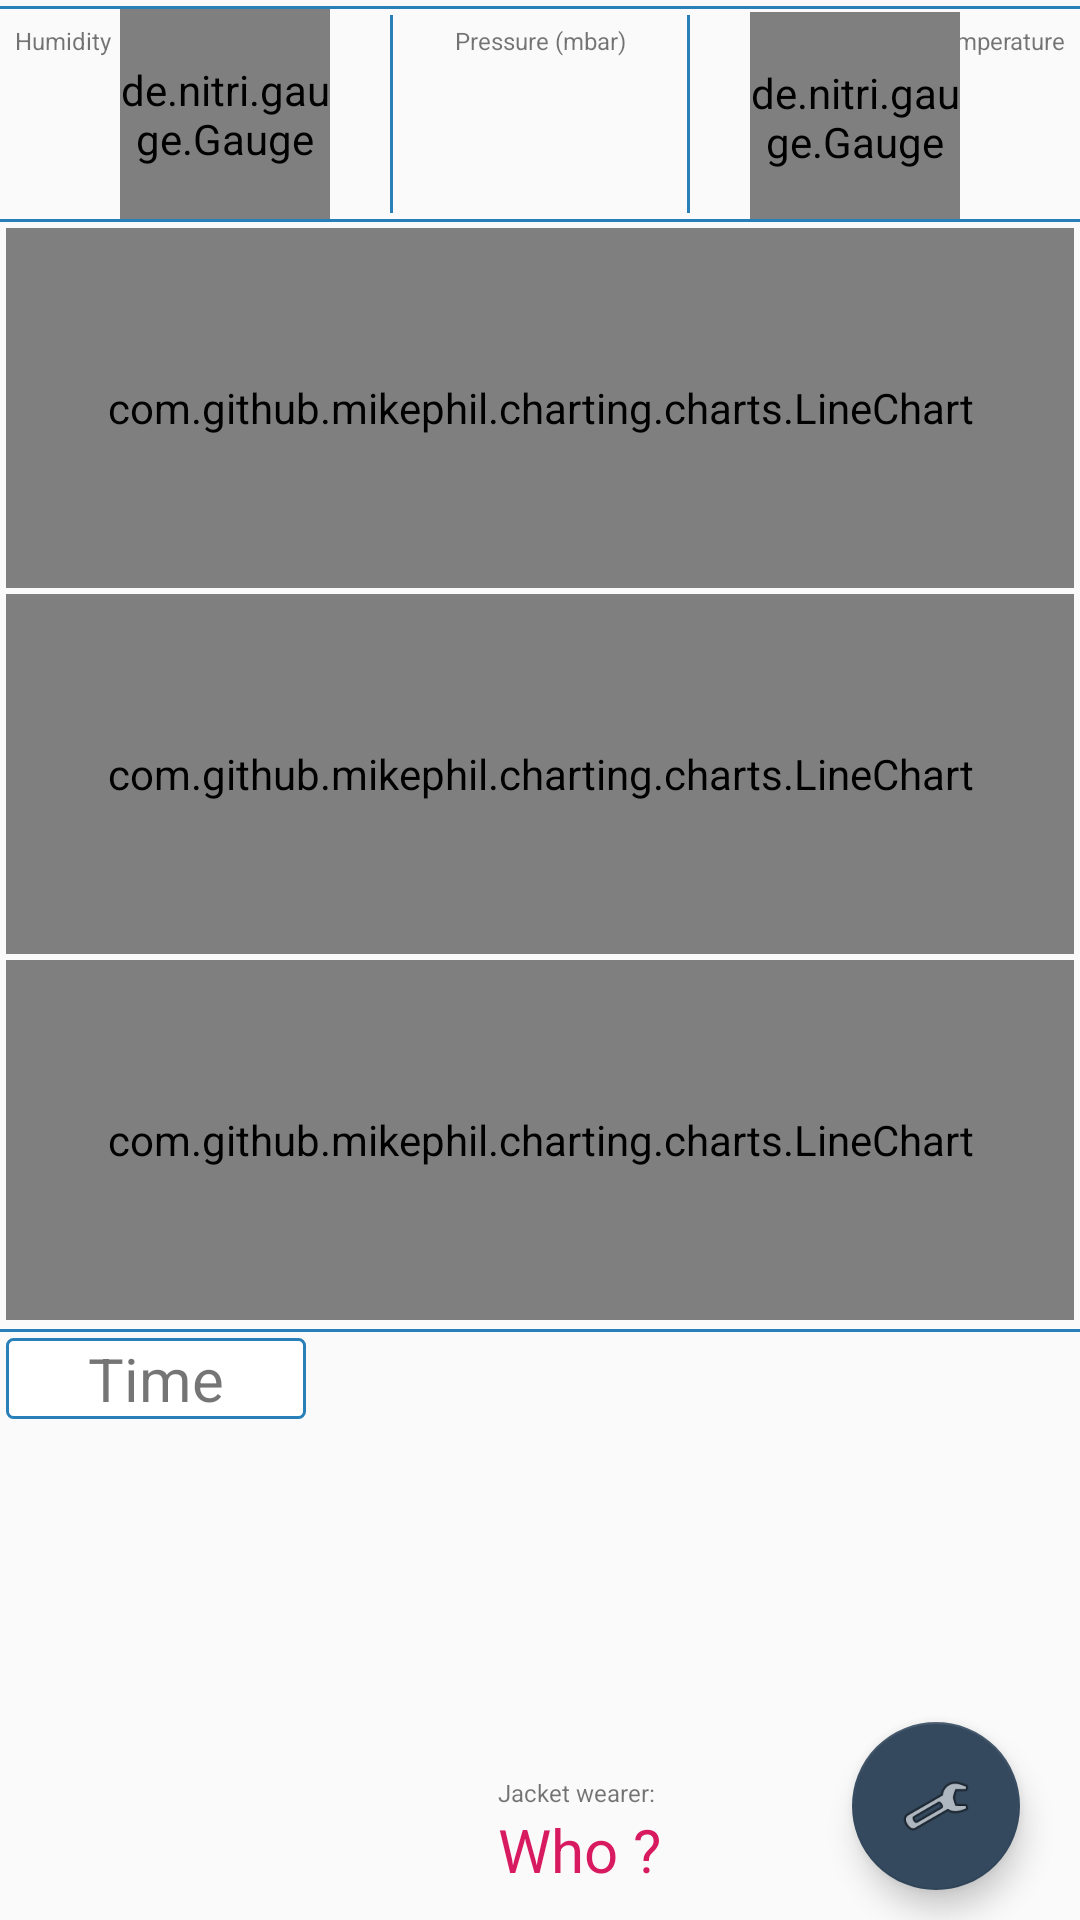

Icons on this 1080 × 1920 Android screen, each with the point to tap as (x,y):
preferences: (936,1806)
